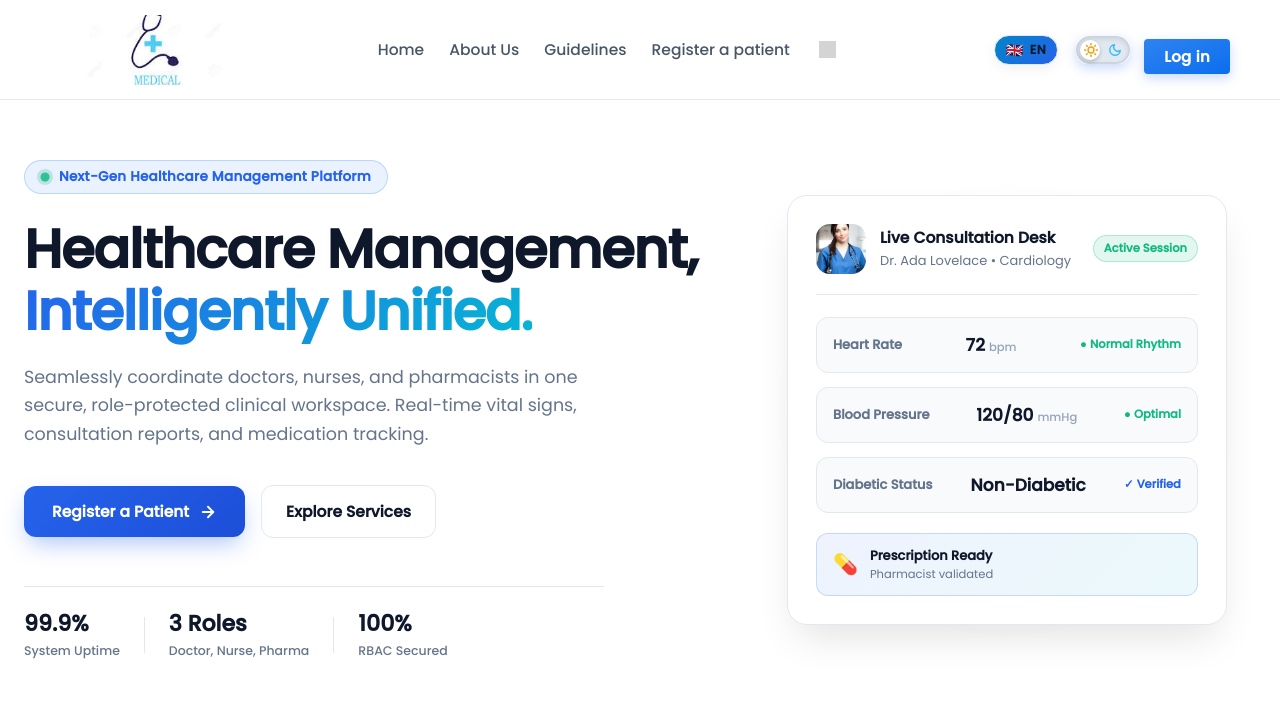
Public Navigation & UI Smoke Tests › navigates to the About Us page and verifies content
Click the link "About Us": (484, 50) [449, 39, 519, 60]
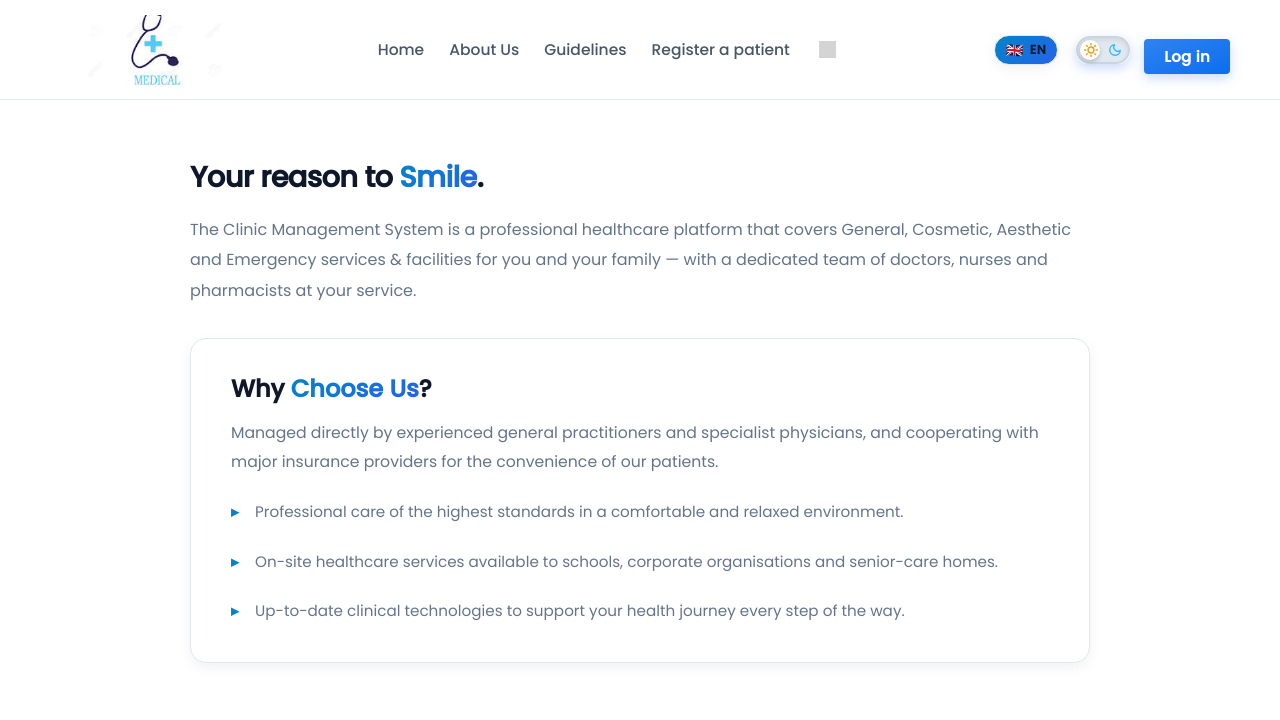
Check: the heading "Your reason to Smile." is shown, box [190, 157, 483, 197]
Check: the heading "Why Choose Us?" is shown, box [231, 372, 432, 405]
